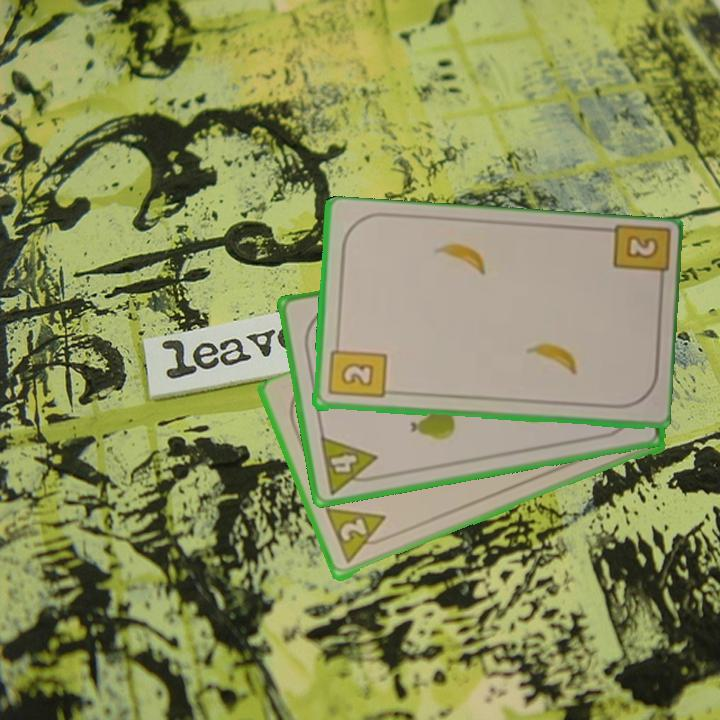2b: (608, 224, 669, 292), (324, 338, 388, 402)
2p: (322, 505, 395, 567)
4p: (316, 432, 383, 497)
